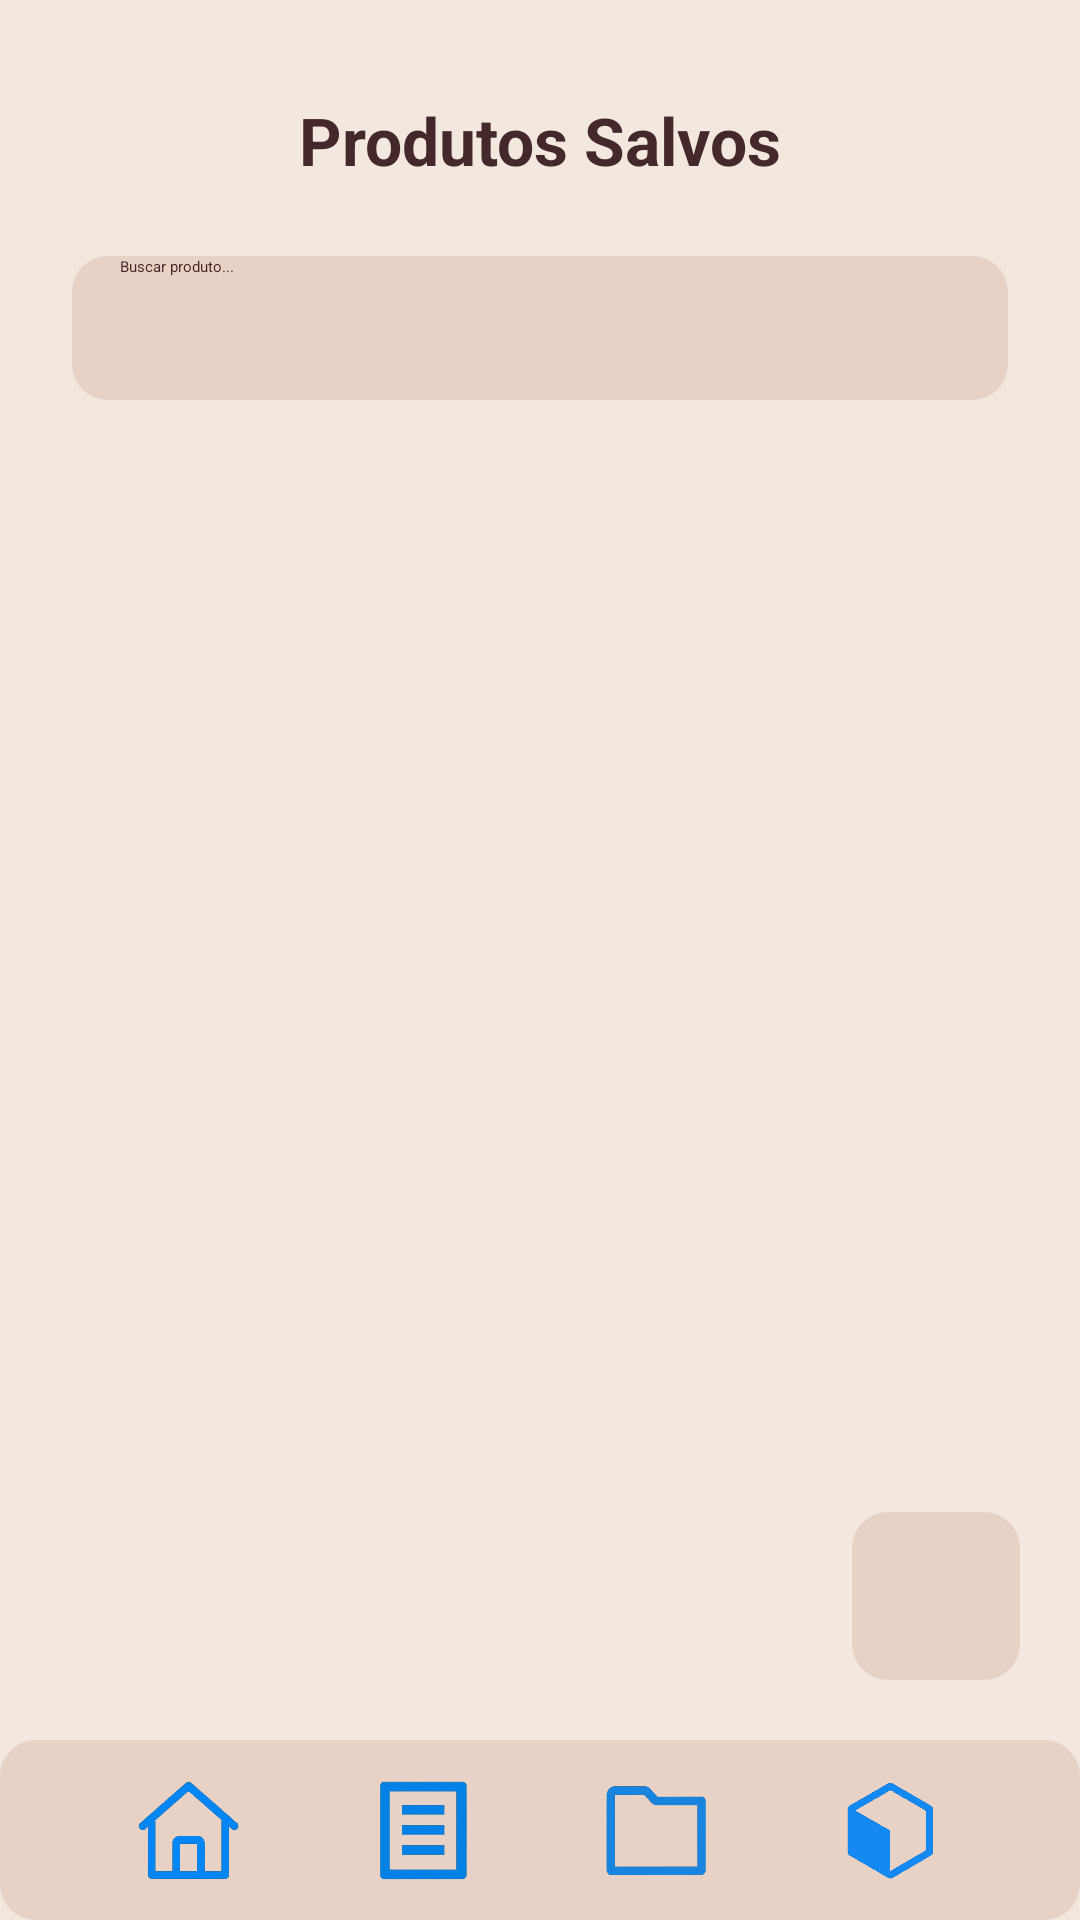

Point at icon controls on the screen. Image size 1080px x 1920px, points as point (x, y).
caixa: point (890, 1831)
home: point (189, 1830)
lista: point (423, 1830)
pasta: point (656, 1830)
